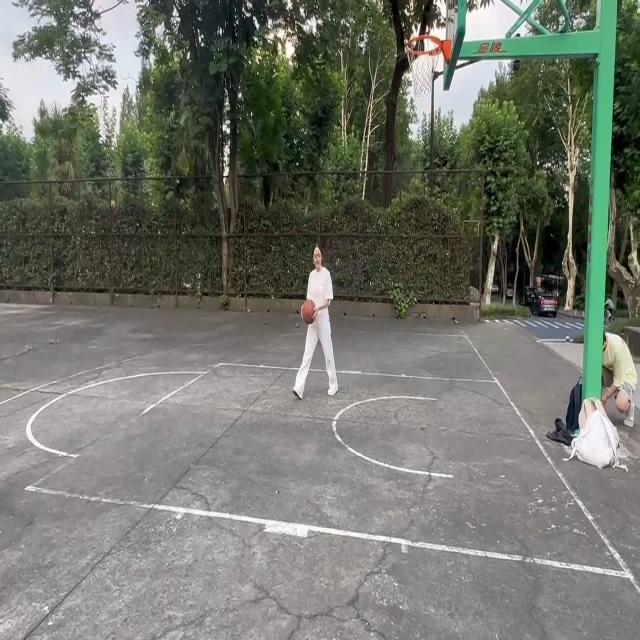basketball: (406, 38, 448, 102)
rim: (303, 300, 316, 324), (619, 391, 631, 412)
